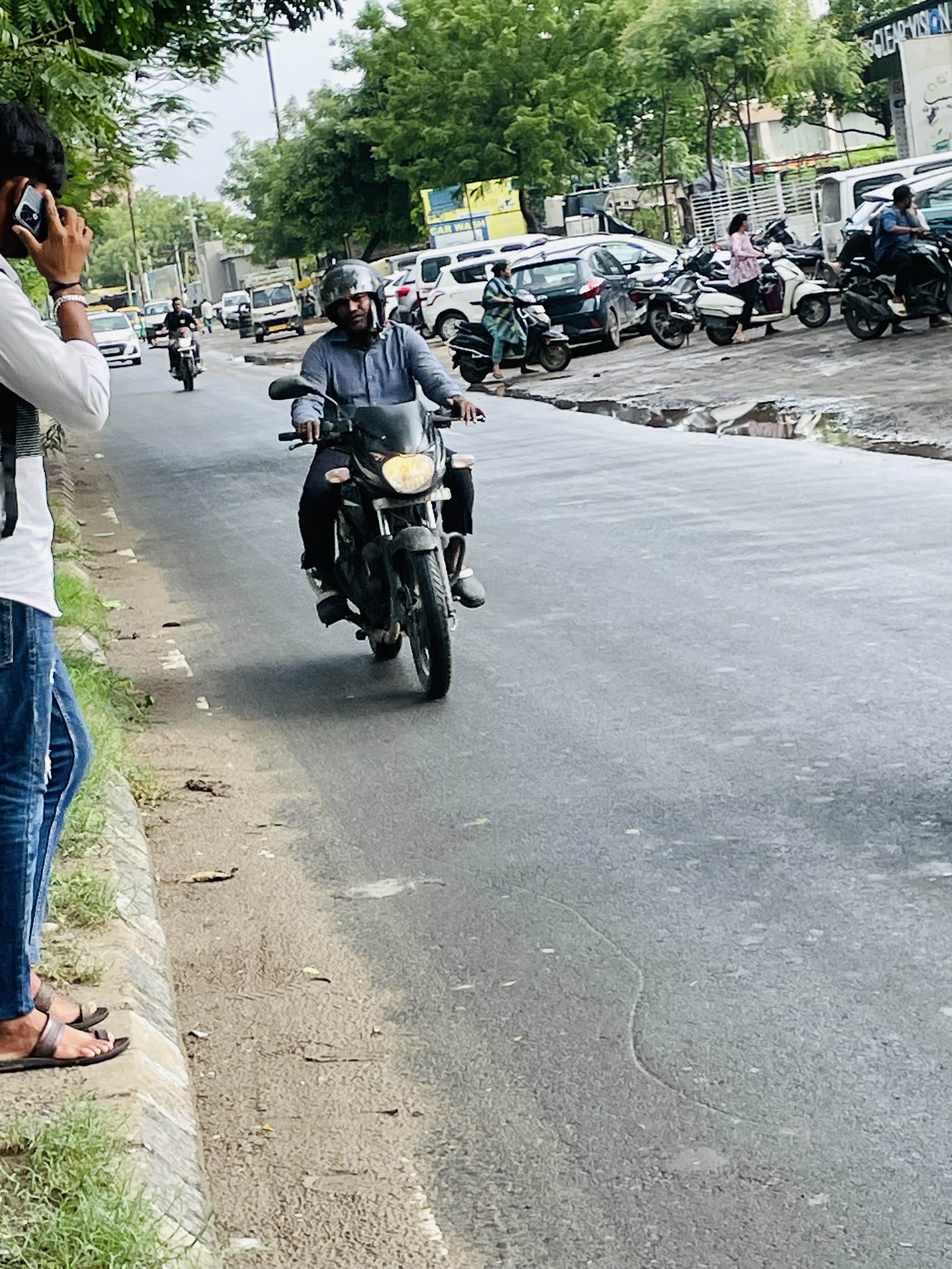BikeWithRider: (261, 253, 495, 708), (685, 205, 831, 348), (837, 178, 952, 340), (444, 253, 581, 387), (153, 289, 212, 393)
Helmet: (311, 255, 392, 342)
NoHelmet: (721, 207, 761, 241), (485, 253, 520, 290), (887, 175, 917, 215)
